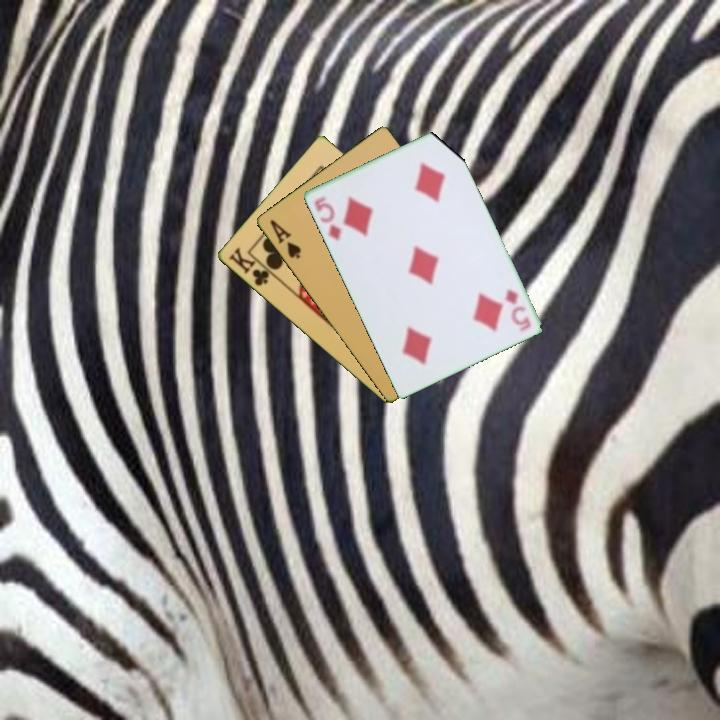5d: (310, 193, 344, 243), (500, 286, 534, 334)
As: (266, 216, 303, 262)
Kc: (224, 244, 278, 289)
